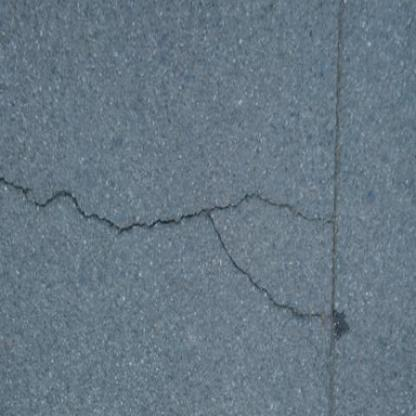Cracks: (2, 174, 351, 326)
